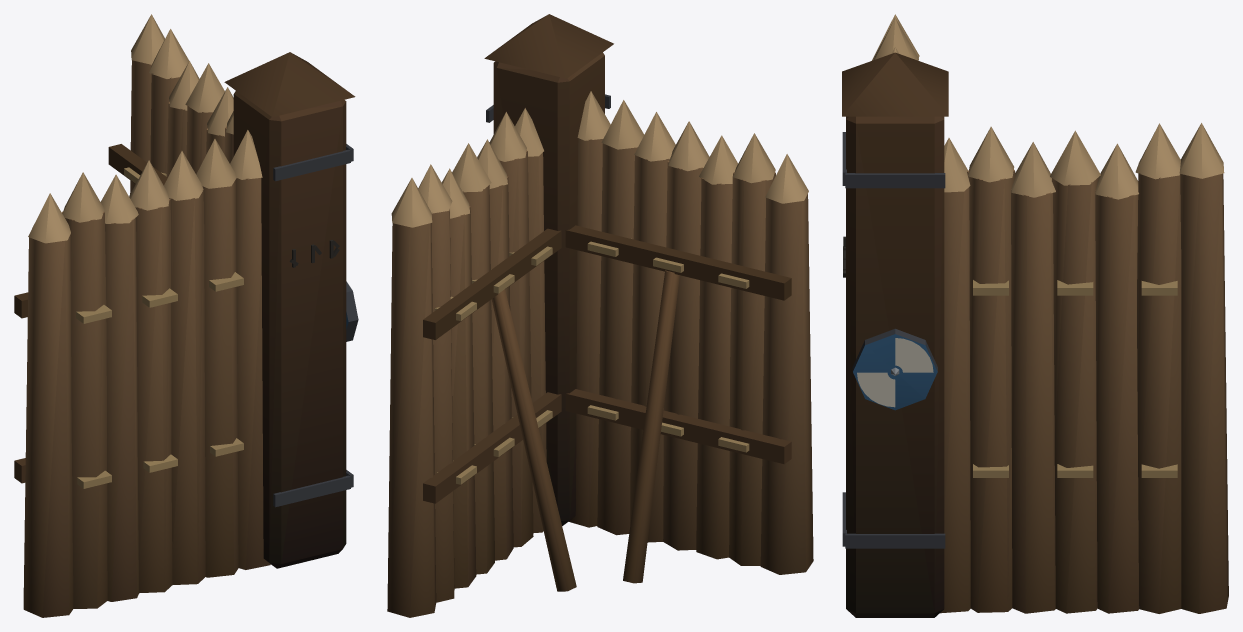
File: palisade-corner.glb
The picture shows the model from 3 angles, left to right: view 1: azimuth 30°, elevation 25°; view 2: azimuth 150°, elevation 25°; view 3: azimuth 270°, elevation 25°; orthographic projection. The views are drawn at different scales.
Parts seen in each view (by area): view 1: palisade_corner; view 2: palisade_corner; view 3: palisade_corner.
Boxes of the visible parts, x1,y1,x2,y2 form: palisade_corner: [14, 14, 358, 617]; palisade_corner: [387, 14, 813, 617]; palisade_corner: [842, 14, 1228, 617].
Size of the model in its own units: 2.46 by 3.71 by 2.36.
